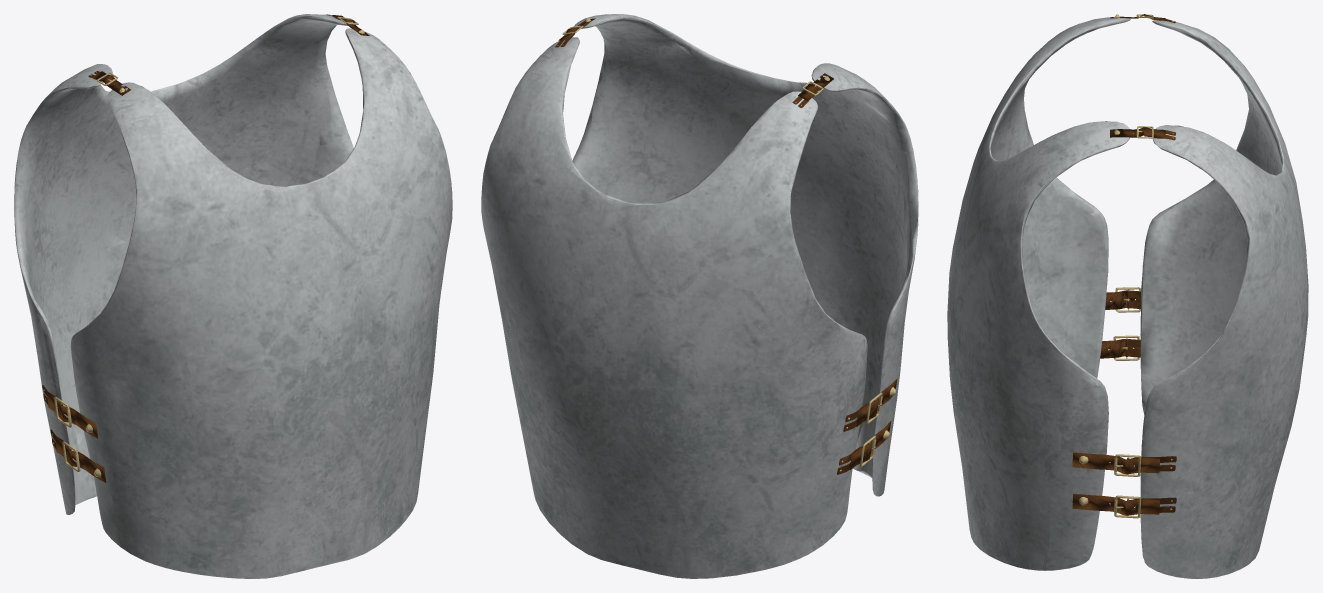
File: cuirass.glb
3 views of the same model, side by side, from view 1: azimuth 30°, elevation 25°; view 2: azimuth 150°, elevation 25°; view 3: azimuth 270°, elevation 25° (orthographic).
Visible parts, largest first — view 1: PIECE_cuirass; view 2: PIECE_cuirass; view 3: PIECE_cuirass.
Part boxes in pixels (x1,y1,x2,y2): PIECE_cuirass: [14, 14, 452, 578]; PIECE_cuirass: [481, 14, 918, 578]; PIECE_cuirass: [947, 14, 1308, 578].
Size of the model in its own units: 1 by 1.26 by 0.8877.
Materials: 4 (4 with a texture image).
